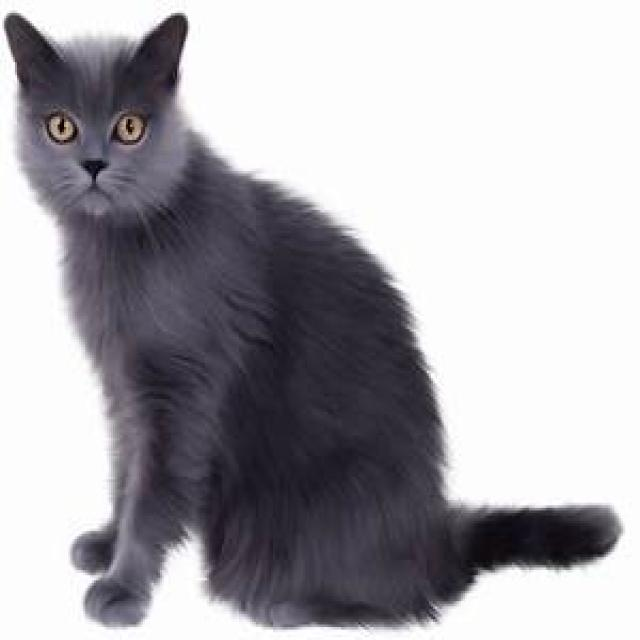animal: (2, 8, 623, 630)
